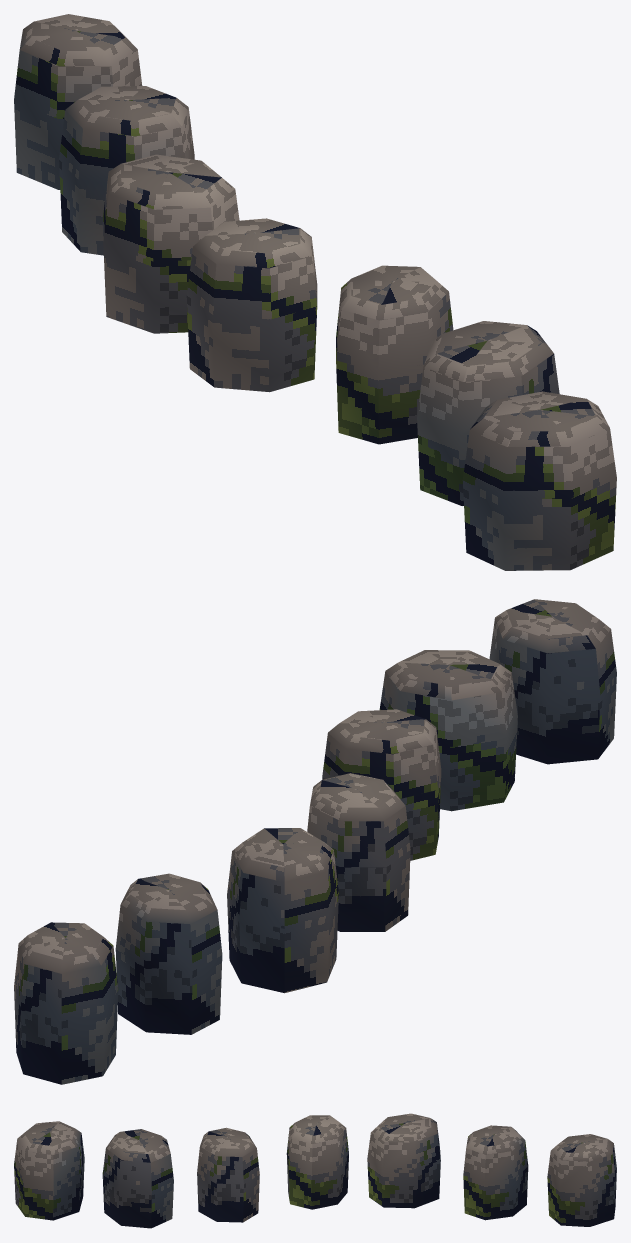
The model's file is lake.bridge.glb.
The picture shows the model from 3 angles, top to bottom: view 1: azimuth 30°, elevation 25°; view 2: azimuth 150°, elevation 25°; view 3: azimuth 270°, elevation 25°; orthographic projection. The views are drawn at different scales.
Visible parts, largest first — view 1: kit_stones; view 2: kit_stones; view 3: kit_stones.
Boxes of the visible parts, x1=… form: kit_stones: x1=14, y1=14, x2=616, y2=570; kit_stones: x1=14, y1=599, x2=616, y2=1084; kit_stones: x1=14, y1=1113, x2=616, y2=1228.
Bounding box in the file's own units: 1.5 × 1.02 × 7.75.
Materials: 1 (1 with a texture image).
